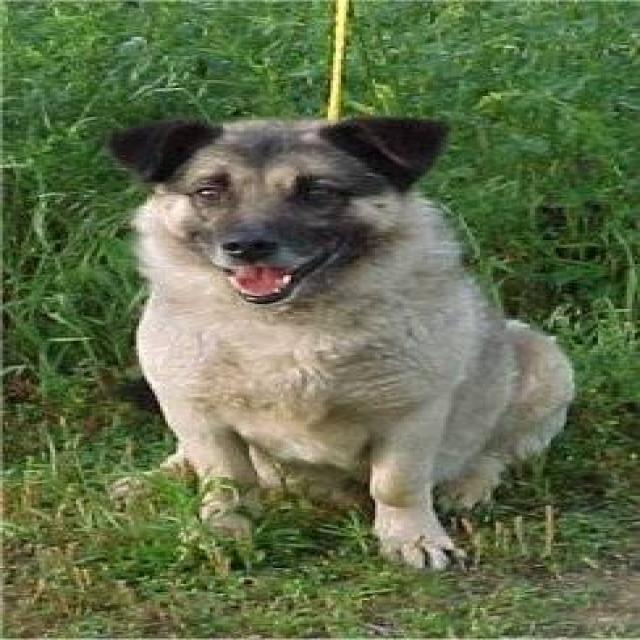dog: (105, 113, 577, 574)
